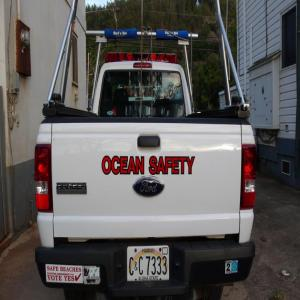Vehicle-registration-plate: (126, 248, 172, 287)
